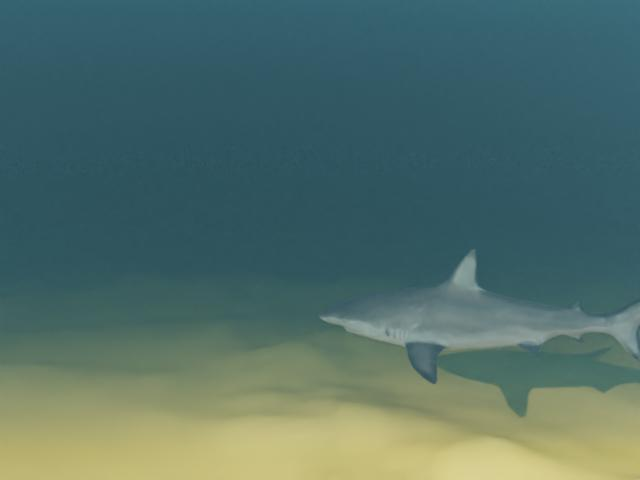Carribean Shark.001: (318, 248, 640, 384)
